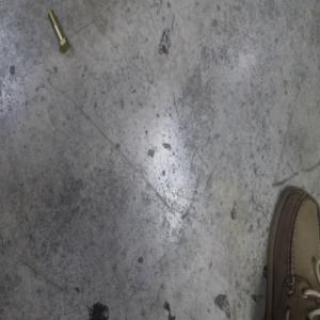Bolttrack_idkeyframe: (47, 7, 70, 53)
